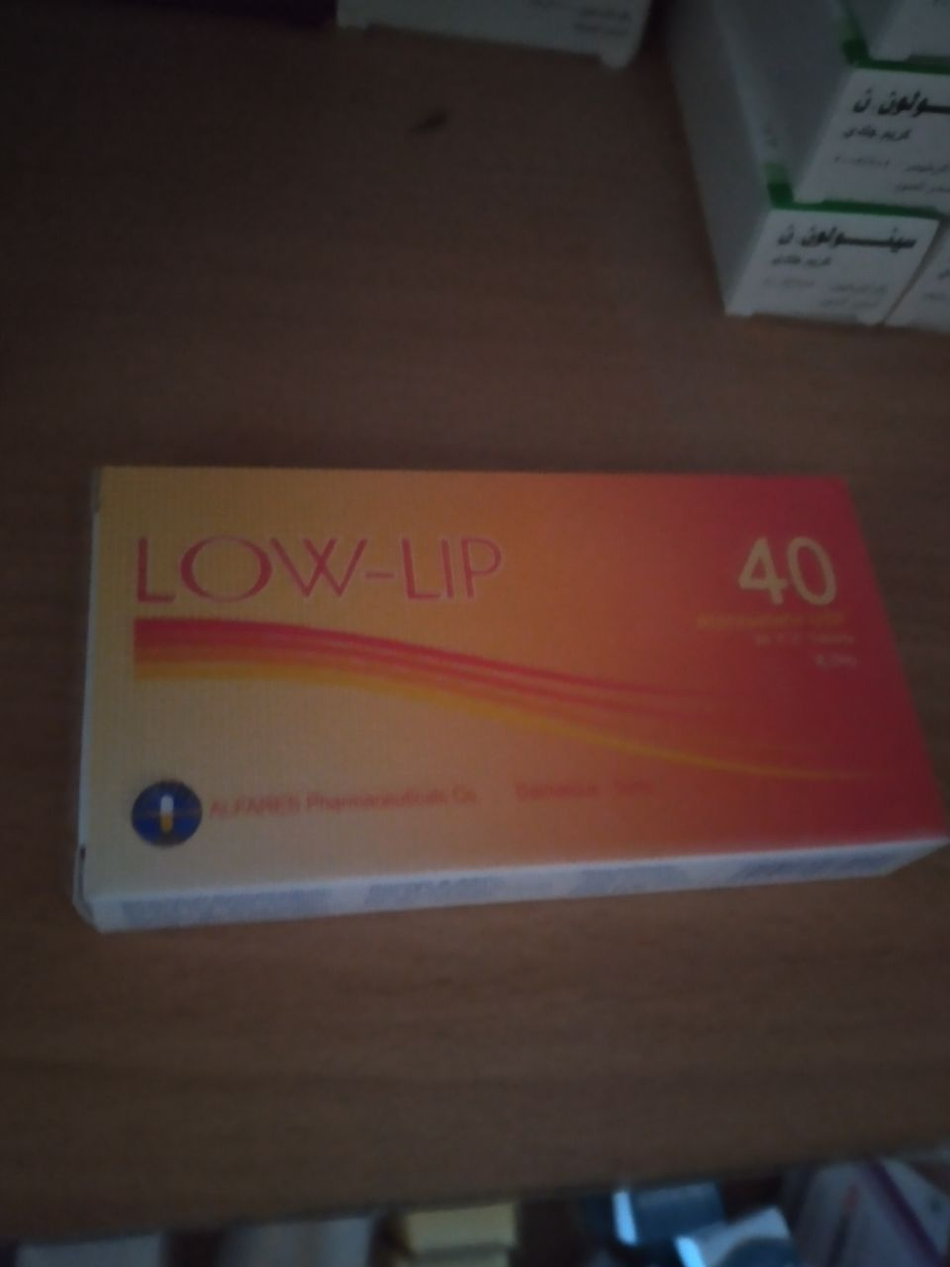Medicine: (79, 439, 950, 934)
